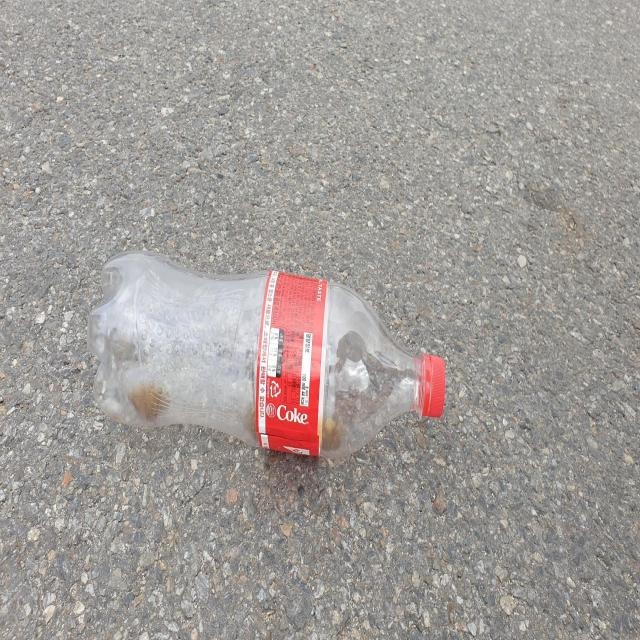plastic: (87, 251, 445, 458)
